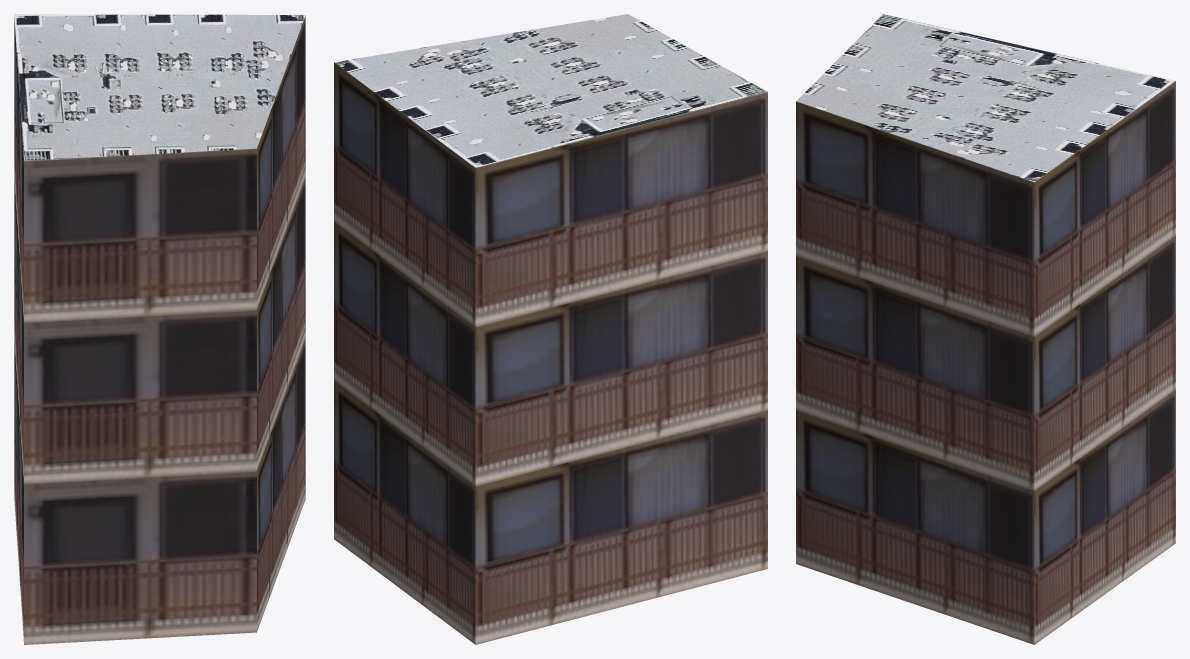
The model's file is ResTex__2610.fbx.
The picture shows the model from 3 angles, left to right: view 1: azimuth 30°, elevation 25°; view 2: azimuth 150°, elevation 25°; view 3: azimuth 270°, elevation 25°; orthographic projection. The views are drawn at different scales.
Visible parts, largest first — view 1: CityEngineMaterial_6_m, CityEngineMaterial_8_m; view 2: CityEngineMaterial_6_m, CityEngineMaterial_8_m; view 3: CityEngineMaterial_6_m, CityEngineMaterial_8_m.
Part boxes in pixels (x1,y1,x2,y2): CityEngineMaterial_6_m: [14, 16, 305, 644]; CityEngineMaterial_8_m: [14, 14, 305, 160]; CityEngineMaterial_6_m: [334, 62, 767, 644]; CityEngineMaterial_8_m: [334, 14, 767, 167]; CityEngineMaterial_6_m: [796, 81, 1175, 644]; CityEngineMaterial_8_m: [796, 14, 1175, 182].
Size of the model in its own units: 7.02 by 9 by 6.69.
2 materials, 2 textured.
